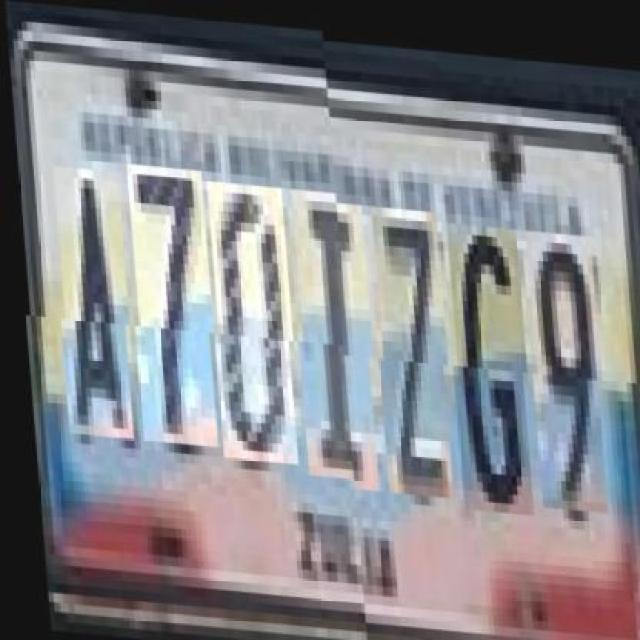0: (205, 186, 297, 469)
7: (125, 171, 217, 454)
9: (522, 220, 606, 502)
a: (50, 175, 133, 447)
g: (444, 215, 531, 507)
i: (289, 192, 376, 485)
z: (368, 199, 450, 490)
